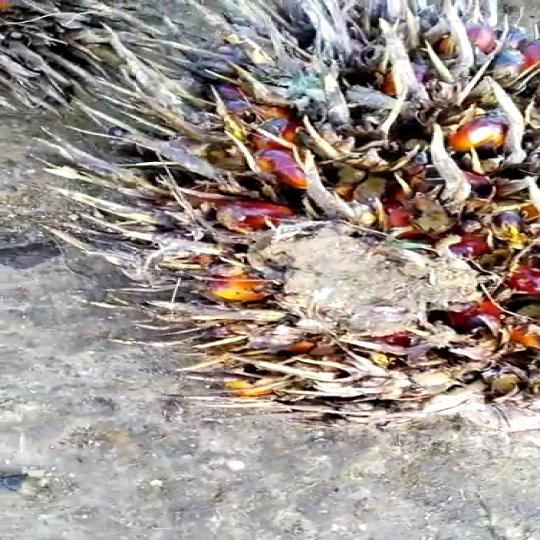terlalu masak: (25, 0, 540, 443)
